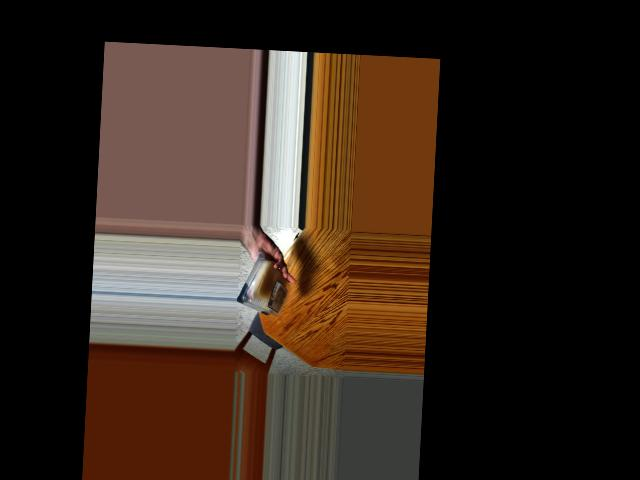cheese: (240, 258, 290, 316)
